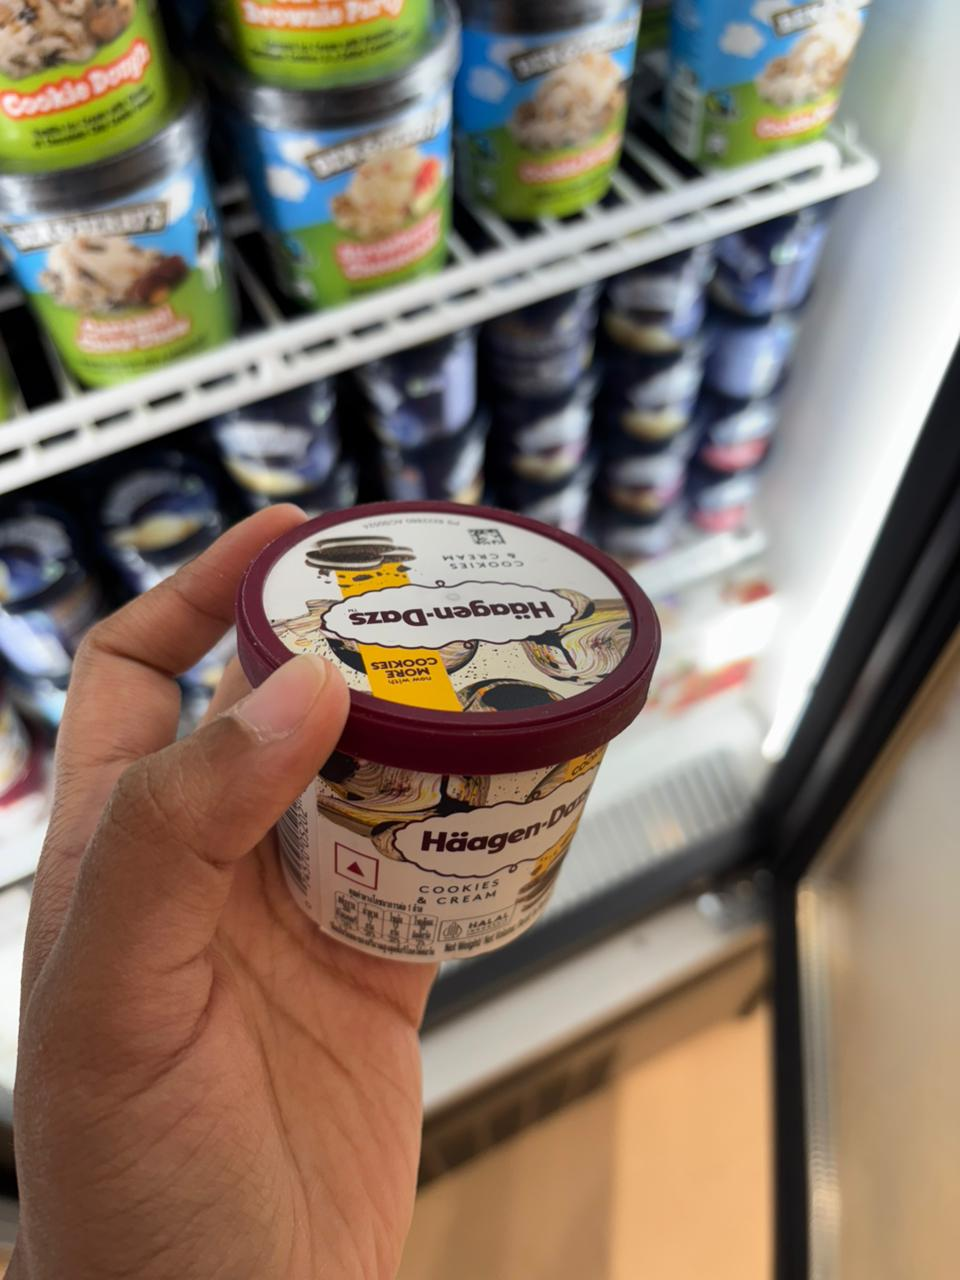Haagen-Dazs IceCream Tub: (235, 482, 671, 983)
